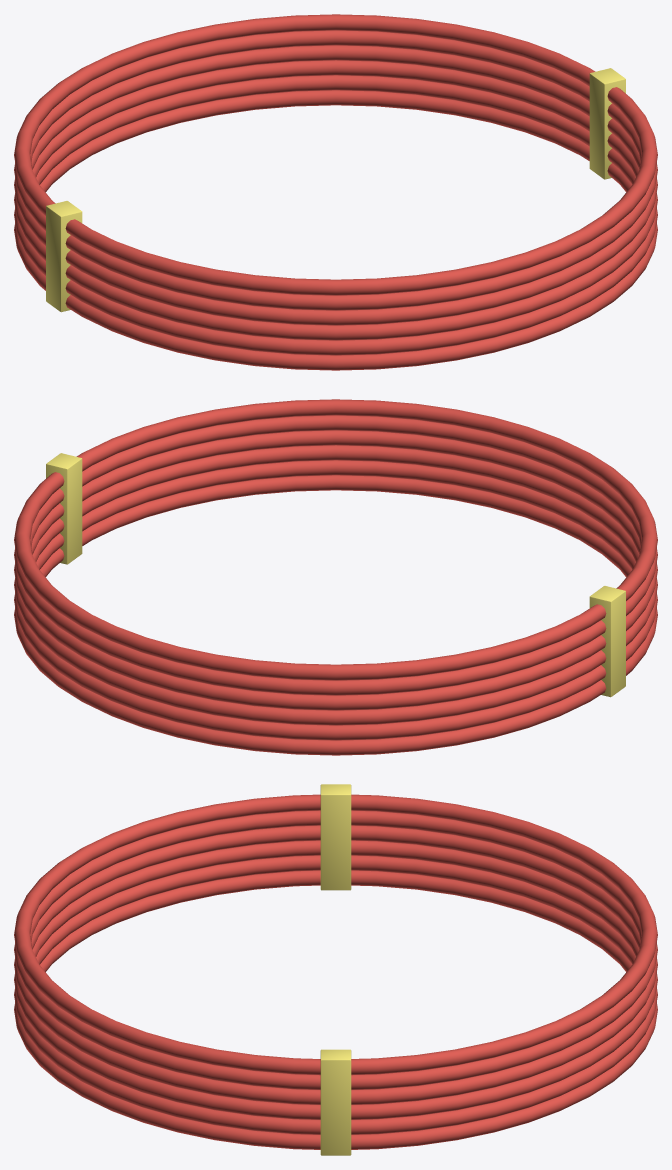
The model's file is HID-AGF-007.glb.
3 renders of one model, top to bottom at view 1: azimuth 30°, elevation 25°; view 2: azimuth 150°, elevation 25°; view 3: azimuth 270°, elevation 25°, orthographic.
Parts seen in each view (by area): view 1: HID-AGF-007_volta5, HID-AGF-007_volta4, HID-AGF-007_volta3, HID-AGF-007_volta2, HID-AGF-007_volta1, HID-AGF-007_volta0, HID-AGF-007_cinta3.141592653589793, HID-AGF-007_cinta0; view 2: HID-AGF-007_volta5, HID-AGF-007_volta4, HID-AGF-007_volta3, HID-AGF-007_volta2, HID-AGF-007_volta1, HID-AGF-007_volta0, HID-AGF-007_cinta3.141592653589793, HID-AGF-007_cinta0; view 3: HID-AGF-007_volta5, HID-AGF-007_volta4, HID-AGF-007_volta3, HID-AGF-007_volta2, HID-AGF-007_volta1, HID-AGF-007_volta0, HID-AGF-007_cinta0, HID-AGF-007_cinta3.141592653589793.
Part boxes in pixels (<box>): HID-AGF-007_volta5: <box>14,14,657,295</box>; HID-AGF-007_volta4: <box>14,30,657,310</box>; HID-AGF-007_volta3: <box>14,45,657,325</box>; HID-AGF-007_volta2: <box>14,60,657,340</box>; HID-AGF-007_volta1: <box>14,75,657,355</box>; HID-AGF-007_volta0: <box>14,90,657,370</box>; HID-AGF-007_cinta3.141592653589793: <box>46,201,82,312</box>; HID-AGF-007_cinta0: <box>589,68,625,179</box>; HID-AGF-007_volta5: <box>14,399,657,680</box>; HID-AGF-007_volta4: <box>14,415,657,695</box>; HID-AGF-007_volta3: <box>14,430,657,710</box>; HID-AGF-007_volta2: <box>14,445,657,725</box>; HID-AGF-007_volta1: <box>14,460,657,740</box>; HID-AGF-007_volta0: <box>14,475,657,755</box>; HID-AGF-007_cinta3.141592653589793: <box>589,586,625,697</box>; HID-AGF-007_cinta0: <box>46,453,82,564</box>; HID-AGF-007_volta5: <box>14,794,657,1075</box>; HID-AGF-007_volta4: <box>14,810,657,1089</box>; HID-AGF-007_volta3: <box>14,825,657,1104</box>; HID-AGF-007_volta2: <box>14,840,657,1119</box>; HID-AGF-007_volta1: <box>14,855,657,1134</box>; HID-AGF-007_volta0: <box>14,870,657,1149</box>; HID-AGF-007_cinta0: <box>320,1049,351,1155</box>; HID-AGF-007_cinta3.141592653589793: <box>320,784,351,890</box>.
Bounding box in the file's own units: 0.641 × 0.104 × 0.632.
